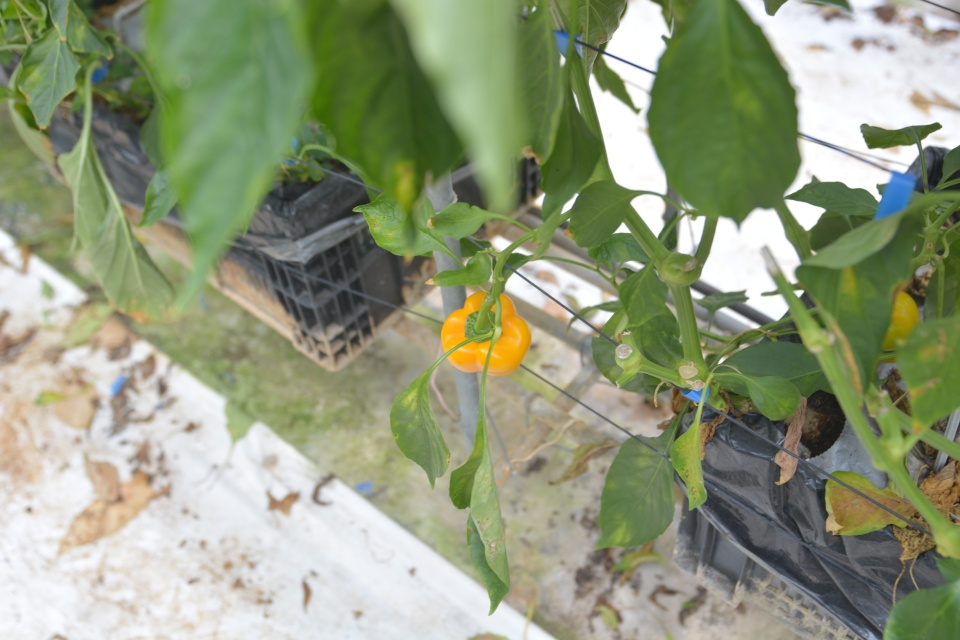fruit: (437, 288, 534, 378)
pedicle: (464, 309, 501, 341)
